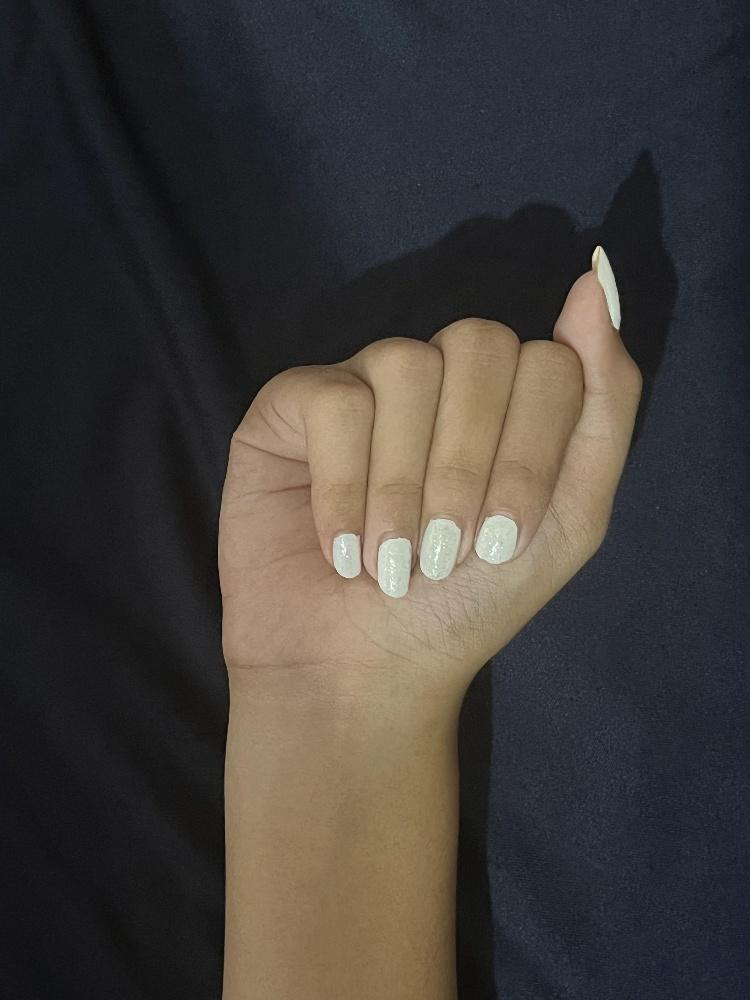a: (215, 258, 647, 682)
